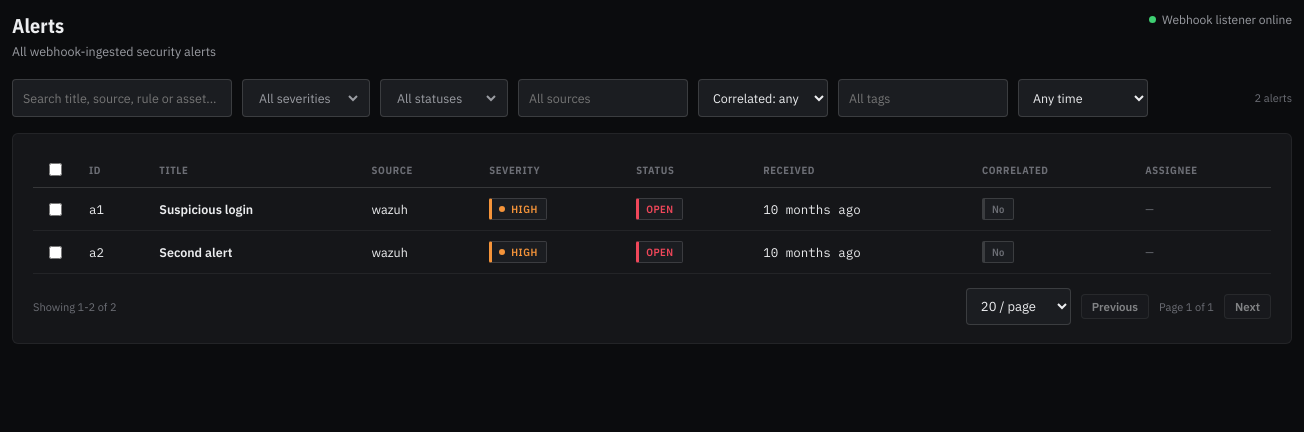
Scenario: AlertsListPage › bulk status-change › a partial failure shows the success/failed breakdown
Expected: the text "Suspicious login" is shown, x1=147 y1=188 x2=360 y2=230
Step 1. Click the checkbox named "Select all alerts on this page" → click(56, 170), box x1=49 y1=163 x2=62 y2=176
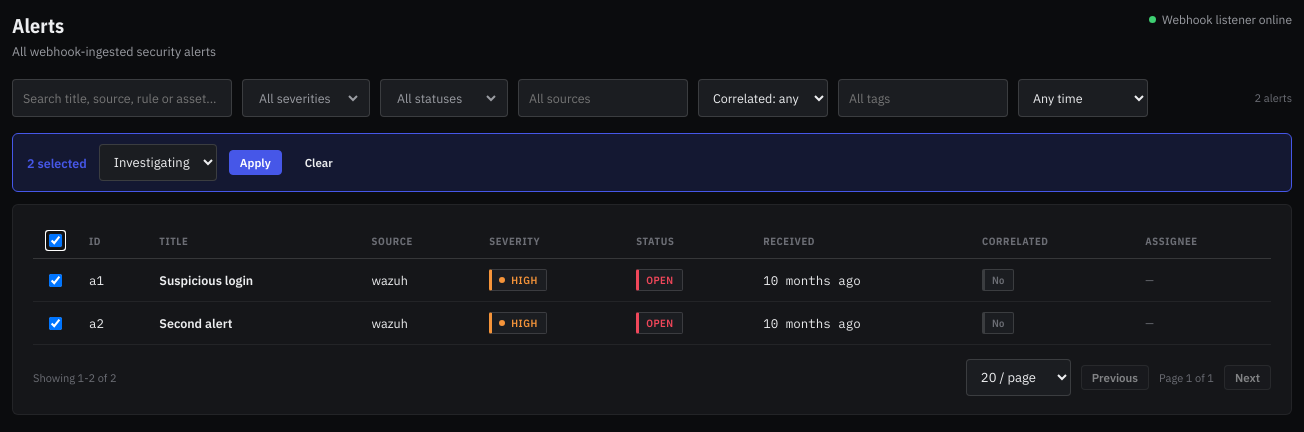
Step 2. Click the button "Apply" → click(255, 162), box x1=229 y1=150 x2=282 y2=175
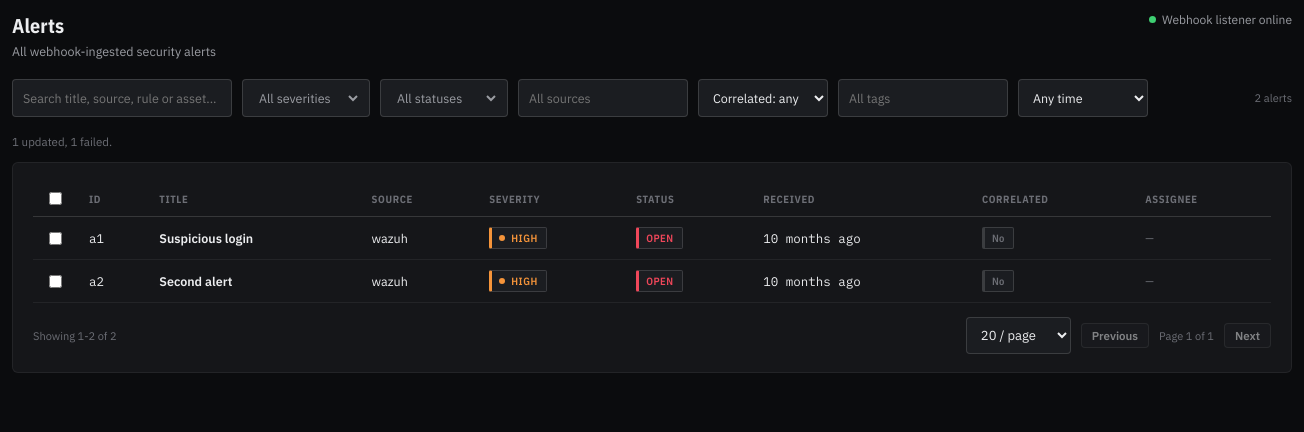
Expected: the text "1 updated, 1 failed." is shown, x1=12 y1=134 x2=112 y2=149
